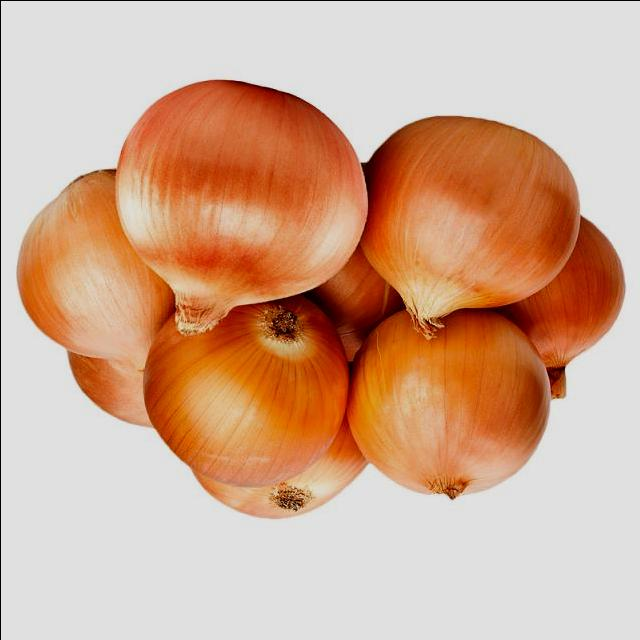onion: (110, 84, 375, 338), (357, 113, 582, 327), (146, 298, 350, 489), (351, 312, 547, 498), (24, 166, 174, 370)
